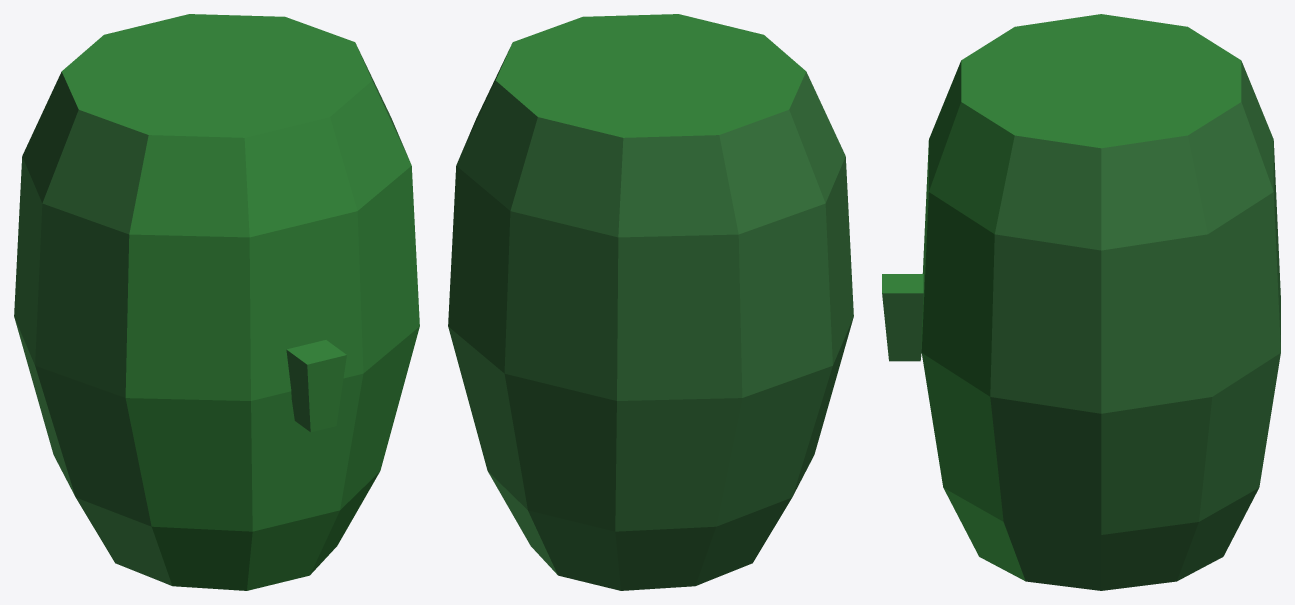
Rendered from wk_head_broad_v01.glb.
3 views of the same model, side by side, from view 1: azimuth 30°, elevation 25°; view 2: azimuth 150°, elevation 25°; view 3: azimuth 270°, elevation 25° (orthographic).
Parts seen in each view (by area): view 1: GEO_Head_broad_Shell, GEO_Head_broad_Nose; view 2: GEO_Head_broad_Shell; view 3: GEO_Head_broad_Shell, GEO_Head_broad_Nose.
Part boxes in pixels (x1,y1,x2,y2): GEO_Head_broad_Shell: (14, 14, 419, 590); GEO_Head_broad_Nose: (286, 340, 346, 432); GEO_Head_broad_Shell: (448, 14, 853, 590); GEO_Head_broad_Shell: (921, 14, 1280, 590); GEO_Head_broad_Nose: (882, 274, 923, 361).
Bounding box in the file's own units: 0.238 × 0.2891 × 0.227.
